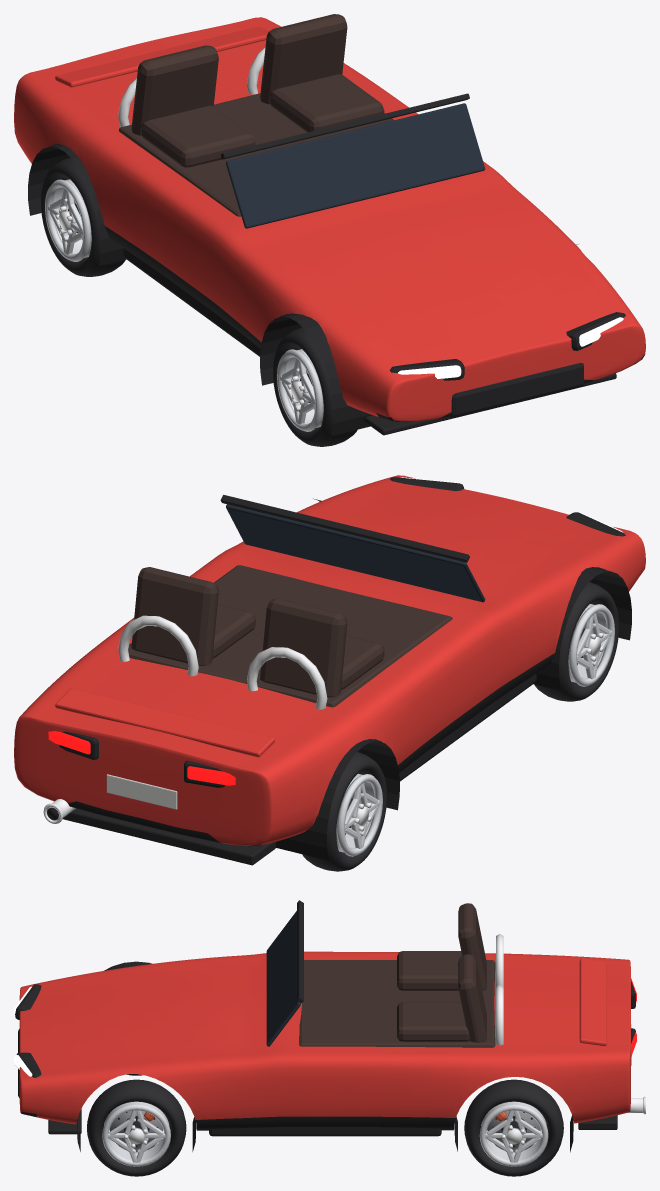
File: velora_mid.glb
3 renders of one model, top to bottom at view 1: azimuth 30°, elevation 25°; view 2: azimuth 150°, elevation 25°; view 3: azimuth 270°, elevation 25°, orthographic. The views are drawn at different scales.
Parts seen in each view (by area): view 1: body, wheel_rr, wheel_fr; view 2: body, wheel_rr, wheel_fr; view 3: body, wheel_fl, wheel_rl.
Boxes of the visible parts, bbox=[...] form: body: bbox=[14, 14, 645, 435]; wheel_rr: bbox=[40, 157, 125, 276]; wheel_fr: bbox=[273, 327, 357, 446]; body: bbox=[14, 475, 645, 865]; wheel_rr: bbox=[302, 752, 386, 871]; wheel_fr: bbox=[534, 582, 619, 701]; body: bbox=[14, 900, 645, 1152]; wheel_fl: bbox=[87, 1079, 186, 1176]; wheel_rl: bbox=[464, 1079, 563, 1176].
Size of the model in its own units: 1.88 by 1.33 by 4.19.
